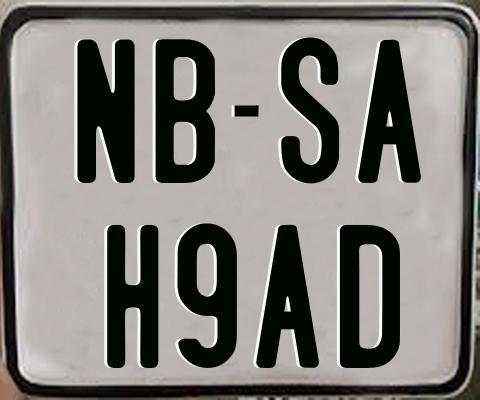9: (174, 221, 234, 367)
A: (256, 225, 324, 369), (355, 39, 419, 182)
B: (153, 36, 217, 182)
D: (338, 223, 400, 371)
H: (104, 223, 160, 370)
N: (74, 37, 134, 186)
S: (281, 34, 345, 187)
